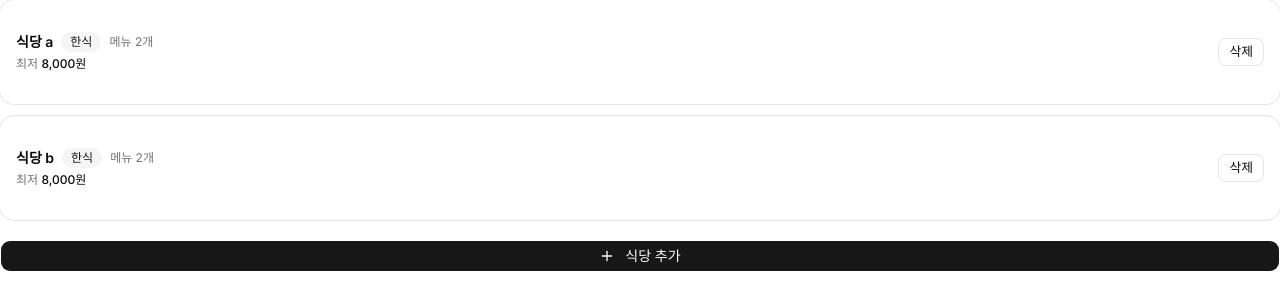
it: RestaurantList › 확인 후 → 해당 식당 목록에서 사라짐
Expected: the text "식당 a" is shown, [16, 32, 53, 52]
Click the button "삭제" in the row of "식당 a": {"x": 1241, "y": 52} [1218, 38, 1264, 66]
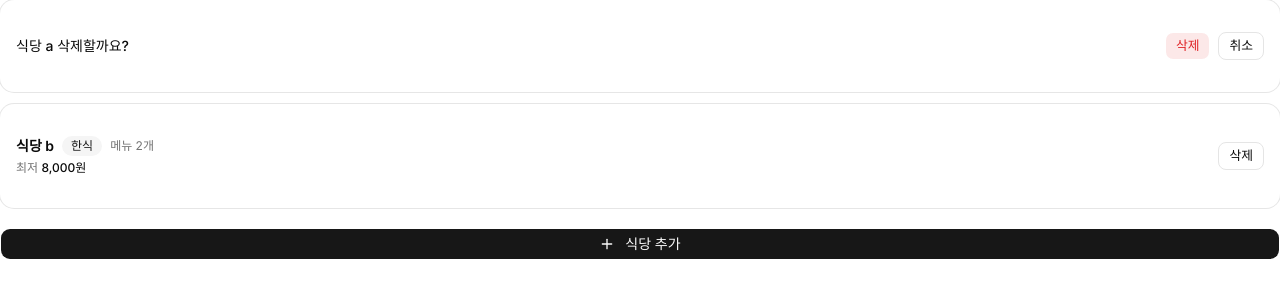
Click the button with aria-label "삭제 확인": {"x": 1188, "y": 46} [1165, 32, 1210, 60]
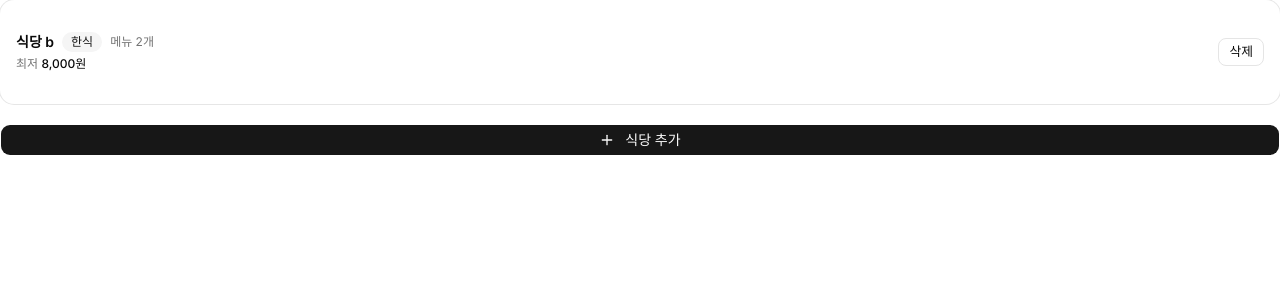
Expected: the text "식당 b" is shown, [16, 32, 54, 52]
Now the text "식당 a" is gone
